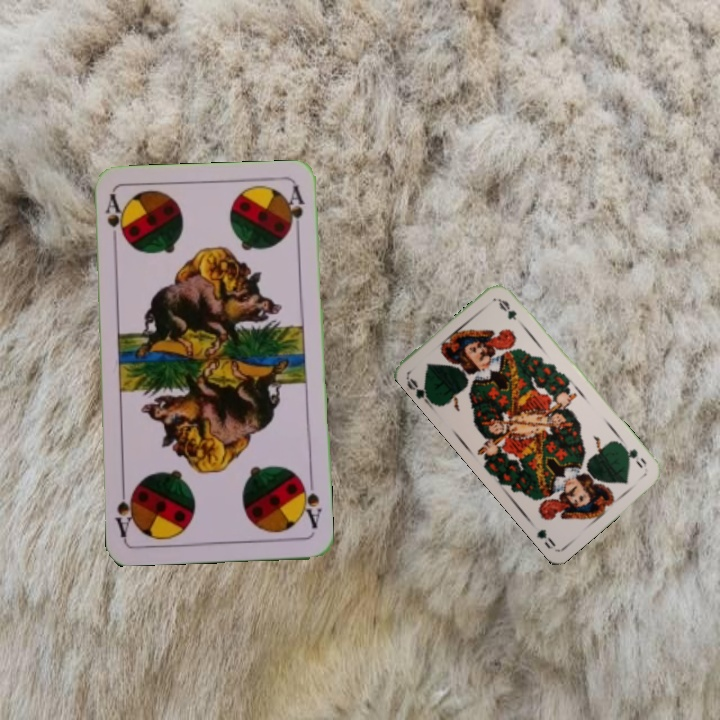GO: (403, 374, 437, 409), (618, 441, 649, 471)
SA: (101, 191, 130, 250), (296, 474, 324, 531)
